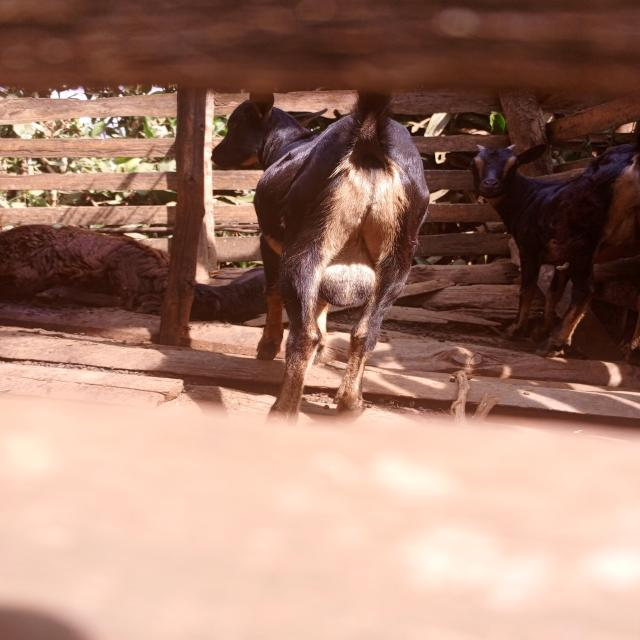goat: (161, 36, 461, 450)
